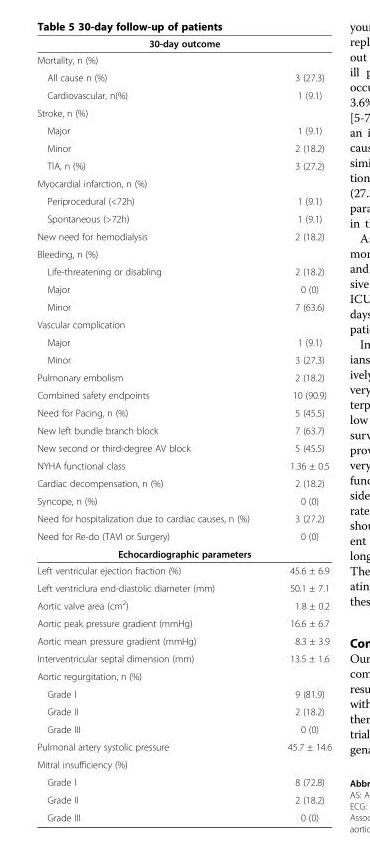table: (36, 37, 331, 822)
table column: (36, 37, 267, 822), (267, 37, 331, 822)
table column header: (36, 37, 331, 68)
table projected row header: (36, 103, 331, 121), (36, 244, 331, 262), (36, 315, 331, 333), (36, 174, 331, 191), (36, 544, 331, 561), (36, 667, 331, 684), (36, 755, 331, 772)
table row: (36, 595, 331, 614), (36, 68, 331, 86), (36, 103, 331, 121), (36, 121, 331, 139), (36, 156, 331, 174), (36, 191, 331, 209), (36, 209, 331, 227), (36, 244, 331, 262), (36, 262, 331, 280), (36, 297, 331, 315), (36, 315, 331, 333), (36, 350, 331, 368), (36, 385, 331, 403), (36, 403, 331, 421), (36, 438, 331, 456), (36, 456, 331, 474), (36, 491, 331, 509), (36, 509, 331, 527), (36, 631, 331, 649), (36, 649, 331, 667), (36, 684, 331, 702), (36, 702, 331, 720), (36, 737, 331, 755), (36, 772, 331, 790), (36, 790, 331, 808), (36, 51, 331, 68), (36, 86, 331, 103), (36, 139, 331, 156), (36, 174, 331, 191), (36, 227, 331, 244), (36, 280, 331, 297), (36, 333, 331, 350), (36, 368, 331, 385), (36, 421, 331, 438), (36, 474, 331, 491), (36, 527, 331, 544), (36, 544, 331, 561), (36, 561, 331, 578), (36, 578, 331, 595), (36, 614, 331, 631), (36, 667, 331, 684), (36, 720, 331, 737), (36, 755, 331, 772), (36, 37, 331, 51), (36, 808, 331, 822)
table spanning cell: (36, 37, 331, 51)
